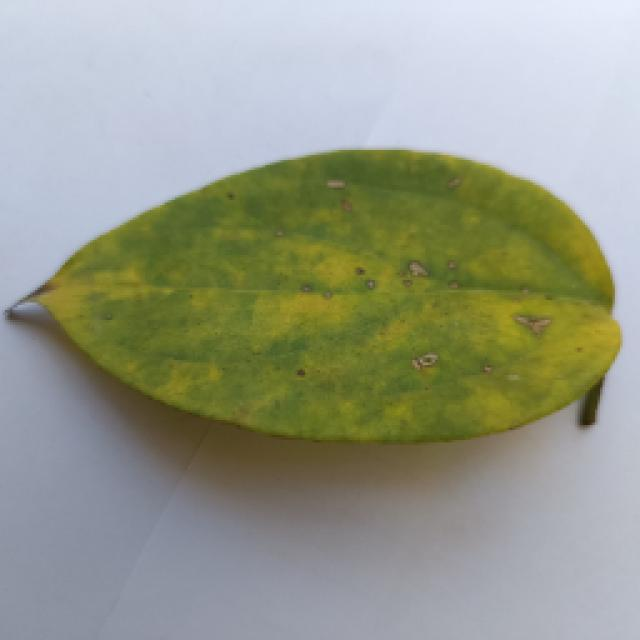slow-decline: (2, 138, 612, 462)
